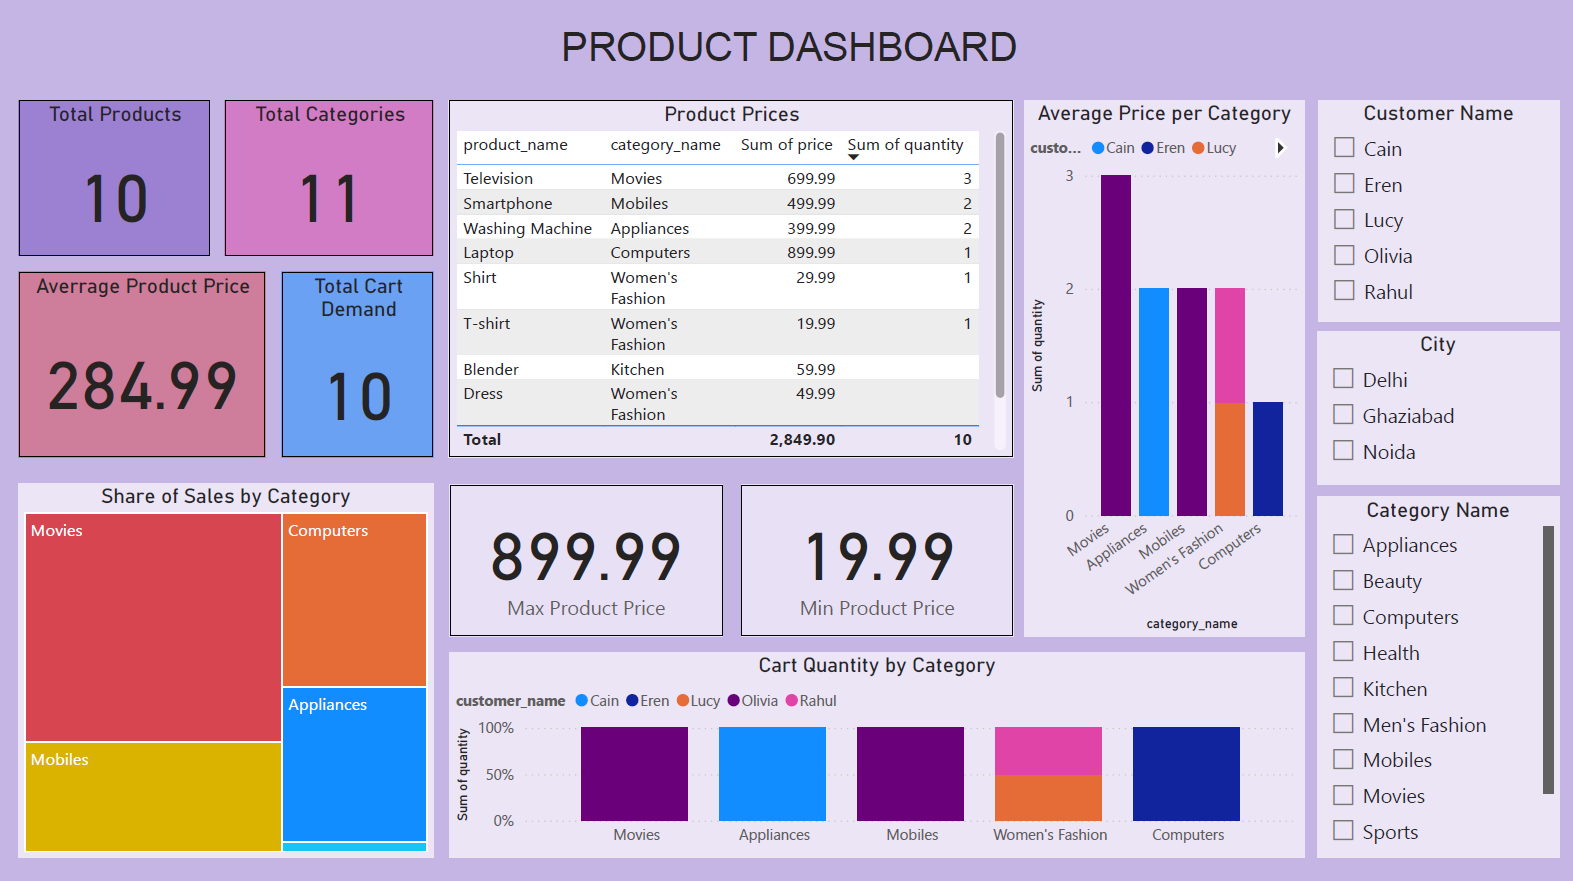

What the dashboard file says about the page in this screenshot:
{"tool":"powerbi","page":{"name":"Product","canvas":[1280,720],"ordinal":1},"visuals":[{"type":"card","title":"Total Products","fields":{"Values":["onlineretail products.product_id"]},"box":[16.2,83.5,154.4,125.7],"z":0},{"type":"card","title":"Total Categories","fields":{"Values":["onlineretail product_category.category_id"]},"box":[183.1,83.5,168.8,125.7],"z":1},{"type":"card","title":"Averrage Product Price","fields":{"Values":["onlineretail products.price"]},"box":[16.2,221.7,200.2,149.9],"z":2},{"type":"card","title":"Total Cart Demand","fields":{"Values":["onlineretail shoppingcart.quantity"]},"box":[228.9,221.7,123,149.9],"z":3},{"type":"treemap","title":"Share of Sales by Category","fields":{"Group":["onlineretail product_category.category_name"],"Values":["onlineretail customer.Total Sales"]},"box":[16.2,393.2,335.8,302.5],"z":4},{"type":"hundredPercentStackedColumnChart","title":"Cart Quantity by Category","fields":{"Category":["onlineretail product_category.category_name"],"Series":["onlineretail customer.customer_name"],"Y":["onlineretail shoppingcart.quantity"]},"box":[365.4,529.7,691.3,166.1],"z":5},{"type":"card","fields":{"Values":["onlineretail customer.Max Product Price"]},"box":[365.4,394.1,220.8,123],"z":6},{"type":"card","fields":{"Values":["onlineretail customer.Min Product Price"]},"box":[600.6,394.1,220,123],"z":7},{"type":"tableEx","title":"Product Prices","fields":{"Values":["onlineretail products.product_name","onlineretail product_category.category_name","onlineretail products.price","onlineretail shoppingcart.quantity"]},"box":[364.5,83.5,456.1,288.2],"z":8},{"type":"columnChart","title":"Average Price per Category","fields":{"Category":["onlineretail product_category.category_name"],"Y":["onlineretail shoppingcart.quantity"],"Series":["onlineretail customer.customer_name"]},"box":[830.4,83.5,226.2,433.6],"z":9},{"type":"slicer","title":"City","fields":{"Values":["onlineretail shippingdetails.city"]},"box":[1067.4,270.2,195.7,123.9],"z":10},{"type":"slicer","title":"Customer Name","fields":{"Values":["onlineretail customer.customer_name"]},"box":[1067.6,83.3,195.7,179.1],"z":11},{"type":"slicer","title":"Category Name","fields":{"Values":["onlineretail product_category.category_name"]},"box":[1067.4,404,195.7,291.8],"z":12},{"type":"textbox","box":[444.4,17.1,391.4,53.9],"z":13}]}

Visuals, with their boxes in screenshot pixels (x1, y1, x2, y2), scaled from the page's 1280x720 canvas onto the 1573x881 screenshot:
"Total Products" card: 20/102/210/256
"Total Categories" card: 225/102/432/256
"Averrage Product Price" card: 20/271/266/455
"Total Cart Demand" card: 281/271/432/455
"Share of Sales by Category" treemap: 20/481/433/851
"Cart Quantity by Category" hundredPercentStackedColumnChart: 449/648/1299/851
card - onlineretail customer.Max Product Price: 449/482/720/633
card - onlineretail customer.Min Product Price: 738/482/1008/633
"Product Prices" tableEx: 448/102/1008/455
"Average Price per Category" columnChart: 1020/102/1298/633
"City" slicer: 1312/331/1552/482
"Customer Name" slicer: 1312/102/1552/321
"Category Name" slicer: 1312/494/1552/851
textbox: 546/21/1027/87
